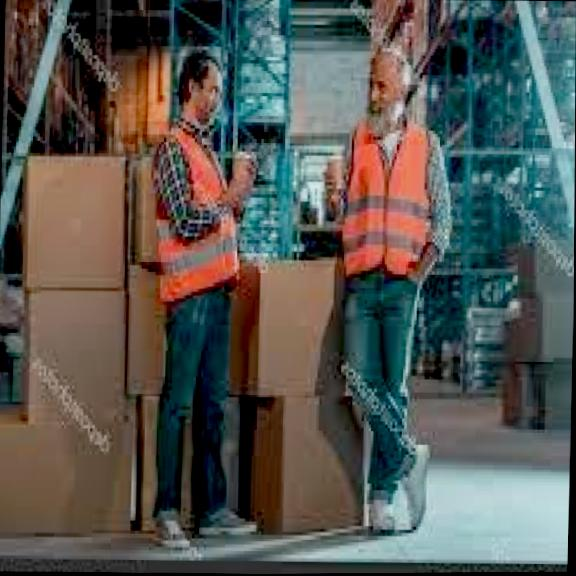safety_vest: (328, 129, 442, 308), (158, 130, 247, 283)
